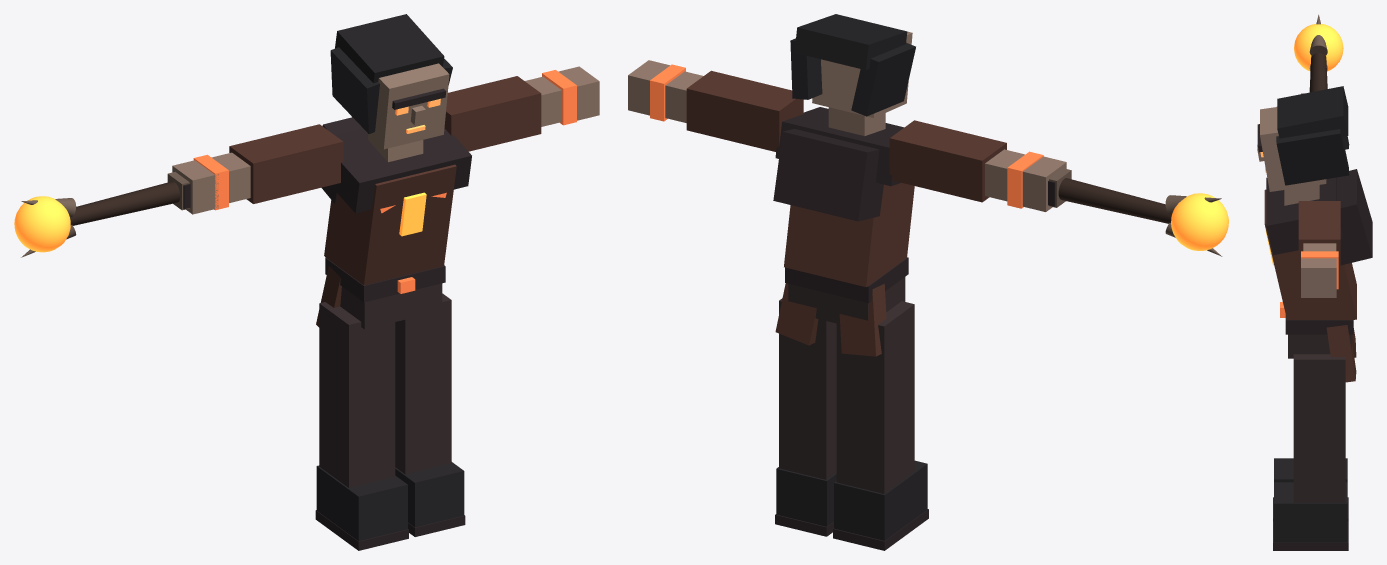
Rendered from FSA_ENEMY_A004_FlameZombie.glb.
The picture shows the model from 3 angles, left to right: view 1: azimuth 30°, elevation 25°; view 2: azimuth 150°, elevation 25°; view 3: azimuth 270°, elevation 25°; orthographic projection. The views are drawn at different scales.
Visible parts, largest first — view 1: TrousersR, Torso, TrousersL, SleeveR, SleeveL, Shoulders, BootR, CowlCrown, Face, BootL, Hips, CowlR (+11 smaller); view 2: TrousersR, Torso, TrousersL, RoundedBack, SleeveL, SleeveR, BootR, CowlCrown, CowlR, BootL, StaffCore, Shoulders (+15 smaller); view 3: TrousersL, BootL, Torso, CowlL, CowlCrown, RoundedBack, Shoulders, SleeveL, Face, HandL, StaffCore, RobePanelL (+9 smaller).
Boxes of the visible parts, left/top/right/bottom form: TrousersR: left=319, top=302, right=395, bottom=487; Torso: left=324, top=164, right=456, bottom=285; TrousersL: left=395, top=293, right=451, bottom=474; SleeveR: left=229, top=124, right=343, bottom=203; SleeveL: left=444, top=76, right=541, bottom=151; Shoulders: left=330, top=128, right=471, bottom=213; BootR: left=316, top=465, right=407, bottom=541; CowlCrown: left=335, top=14, right=444, bottom=83; Face: left=351, top=63, right=449, bottom=149; BootL: left=395, top=462, right=464, bottom=527; Hips: left=340, top=283, right=442, bottom=329; CowlR: left=330, top=47, right=379, bottom=133; TrousersR: left=836, top=301, right=914, bottom=493; Torso: left=784, top=183, right=914, bottom=286; TrousersL: left=779, top=298, right=836, bottom=479; RoundedBack: left=773, top=129, right=883, bottom=221; SleeveL: left=686, top=70, right=803, bottom=151; SleeveR: left=889, top=120, right=1006, bottom=202; BootR: left=834, top=460, right=927, bottom=540; CowlCrown: left=794, top=14, right=907, bottom=70; CowlR: left=851, top=42, right=915, bottom=116; BootL: left=776, top=467, right=836, bottom=526; StaffCore: left=1171, top=193, right=1228, bottom=250; Shoulders: left=775, top=107, right=903, bottom=186; TrousersL: left=1293, top=354, right=1345, bottom=502; BootL: left=1274, top=482, right=1347, bottom=542; Torso: left=1264, top=189, right=1356, bottom=319; CowlL: left=1276, top=129, right=1349, bottom=185; CowlCrown: left=1277, top=86, right=1348, bottom=138; RoundedBack: left=1336, top=169, right=1372, bottom=265; Shoulders: left=1266, top=177, right=1342, bottom=255; SleeveL: left=1298, top=201, right=1340, bottom=275; Face: left=1260, top=107, right=1326, bottom=191; HandL: left=1301, top=258, right=1336, bottom=297; StaffCore: left=1294, top=24, right=1343, bottom=71; RobePanelL: left=1326, top=319, right=1356, bottom=382.
Bounding box in the file's own units: 2.05 × 1.67 × 0.409.
